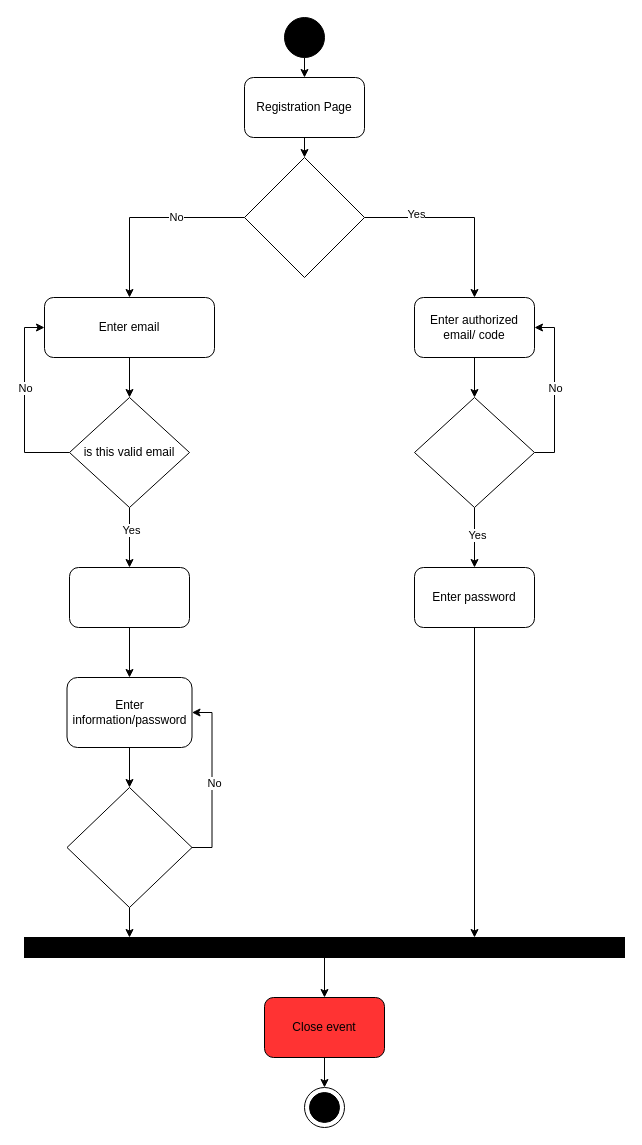
This 642x1145 diagram has some shape labels left out. The shapes that lost their labels are listed below. From the top down, each one's centre as x and y in pixels, then its label:
At (304,217): "Is this authorized internal users".
At (474,452): "is this valid email/code".
At (129,597): "Send Verification".
At (129,847): "Is that match the requirements".
